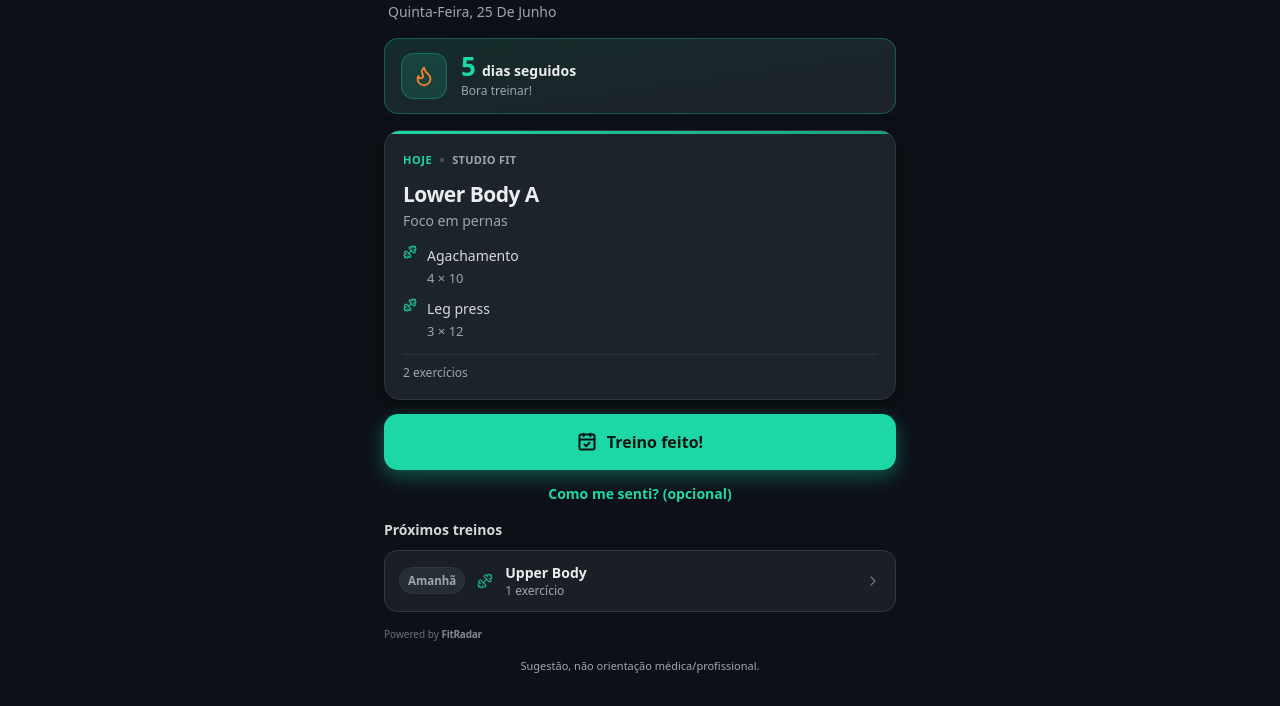
StudentHomePage › opens optional check-in sheet with feeling
This screenshot has width=1280, height=706.
(page scrolled)
Click the button "Como me senti? (opcional)" at (640, 494), box [384, 484, 896, 504]
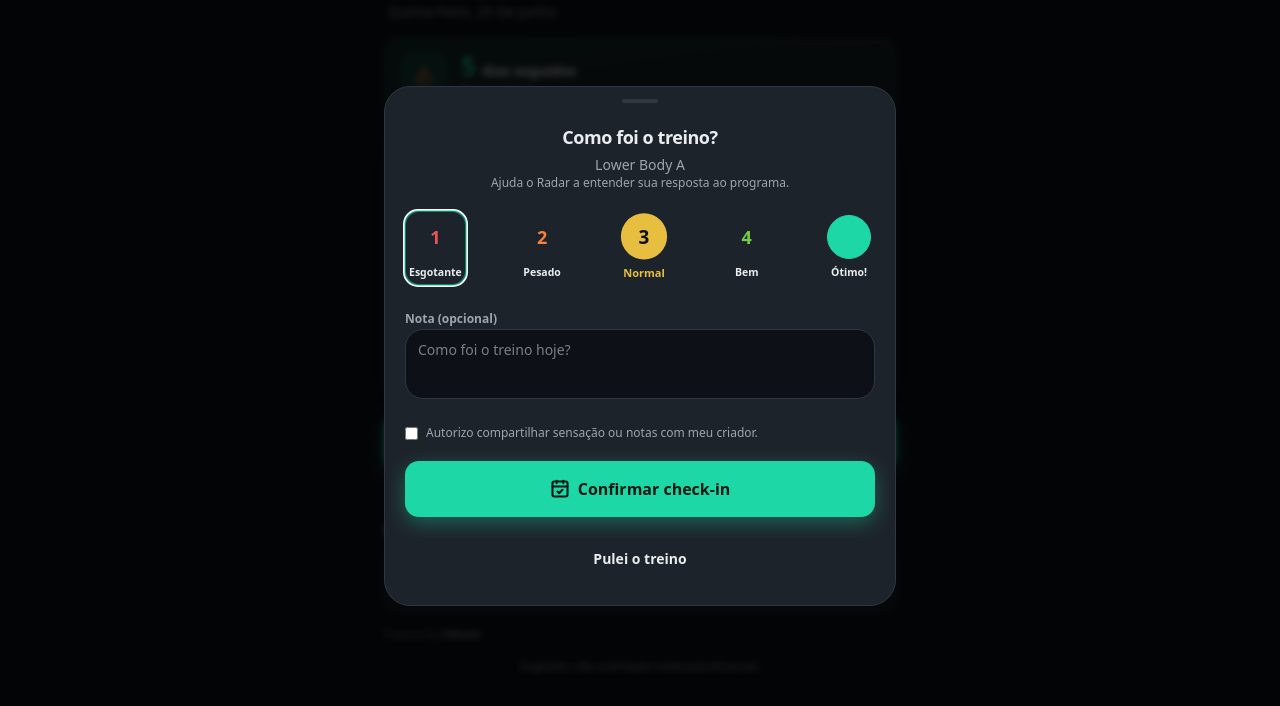
Check: the dialog is shown, box [384, 86, 896, 606]
Check: the heading "Como foi o treino?" is shown, box [562, 125, 718, 149]
